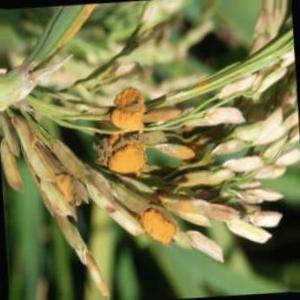Leaf_Scald: (110, 90, 146, 181), (138, 211, 177, 251), (51, 167, 83, 206)
